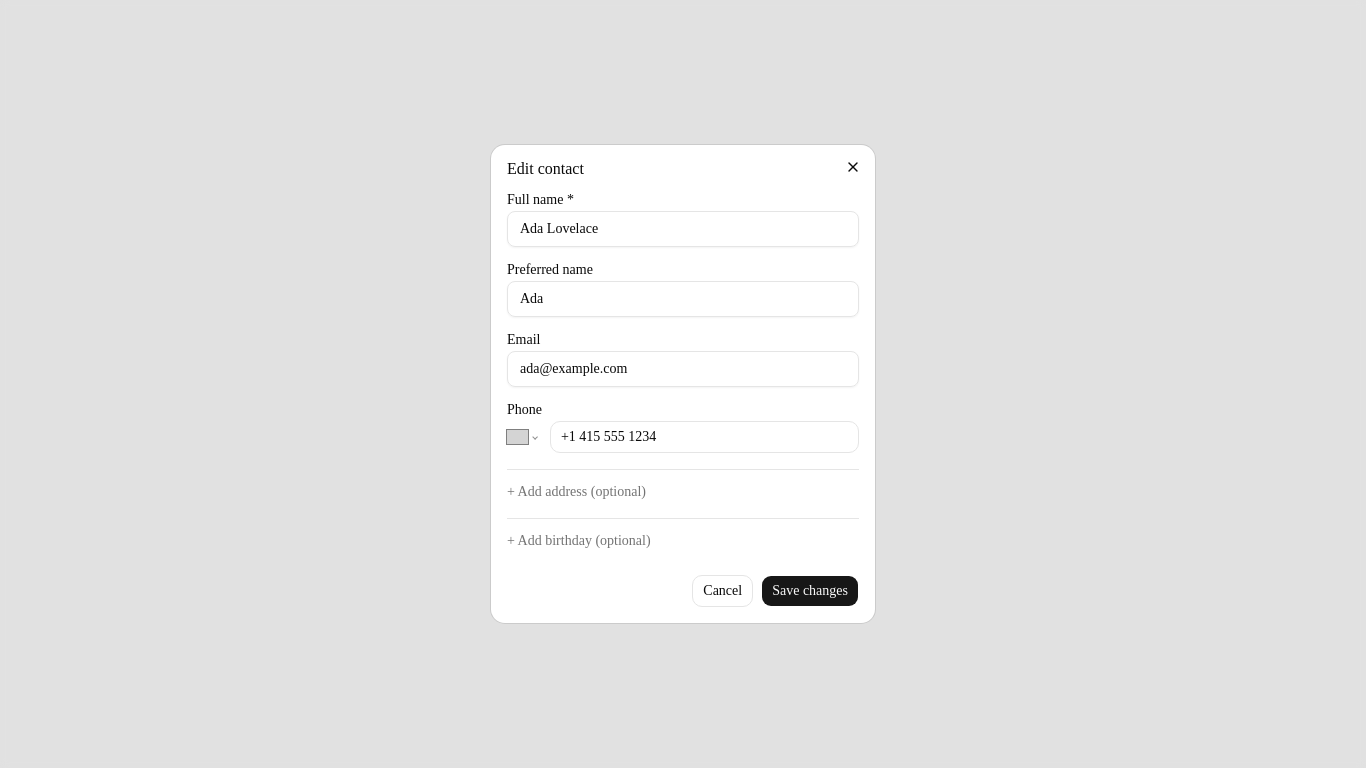
Test case: EditContactDialog › renders an inline error and keeps the dialog open on PUT failure
Click the button "Save changes" at (810, 591), box [761, 575, 859, 607]
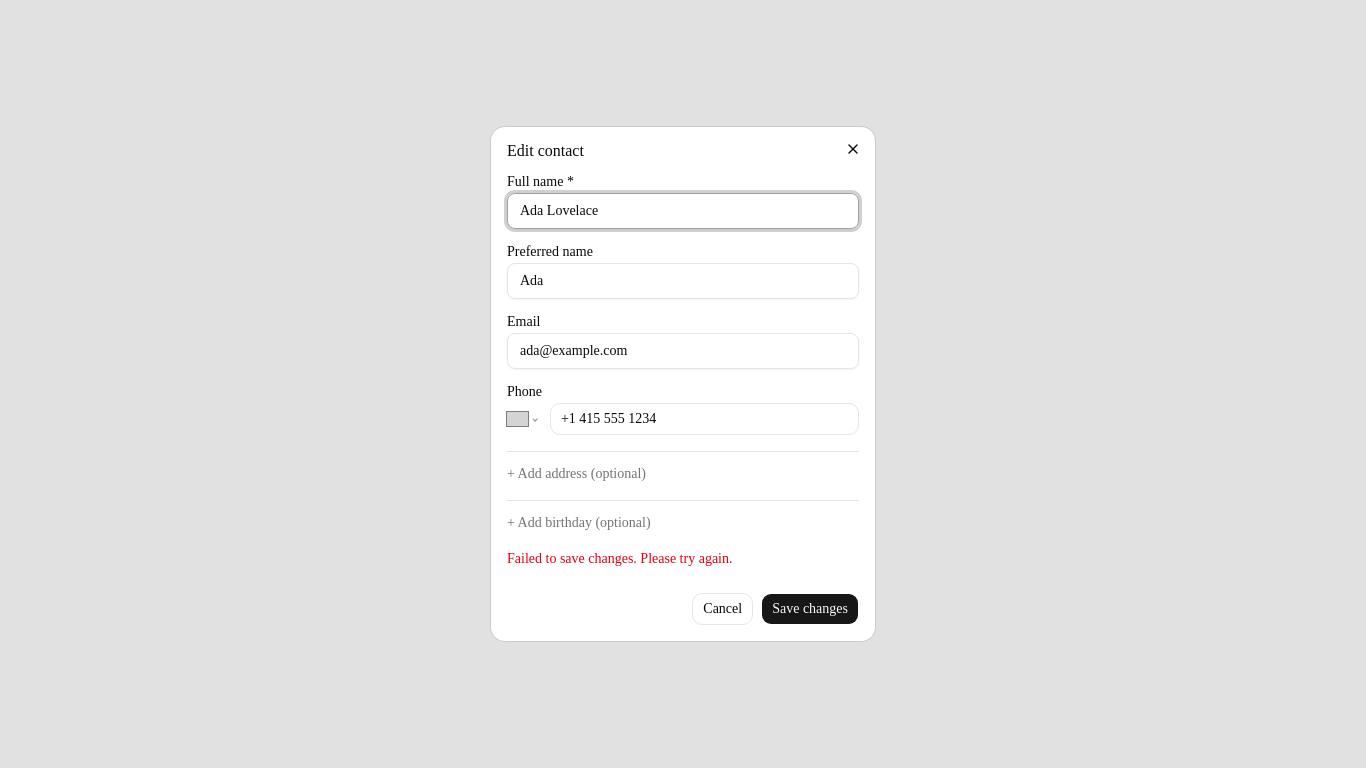
expect the text "Failed to save changes. Please try again." is shown: met, box [507, 551, 732, 566]
